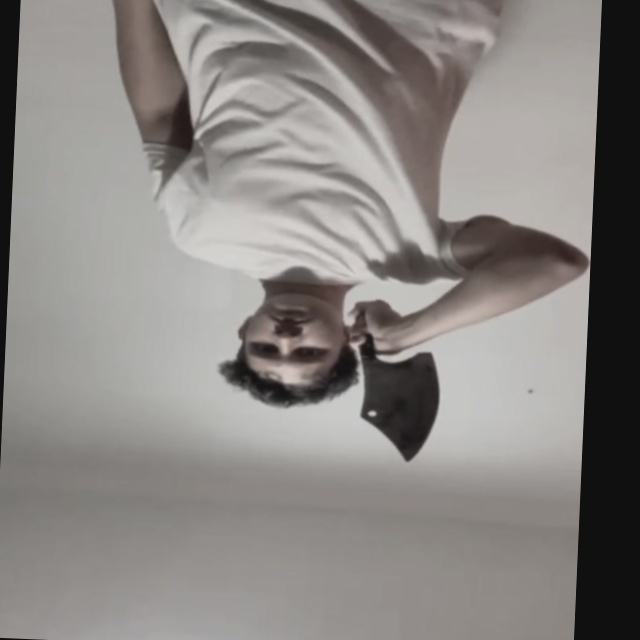Sharp-Object: (360, 348, 442, 463)
